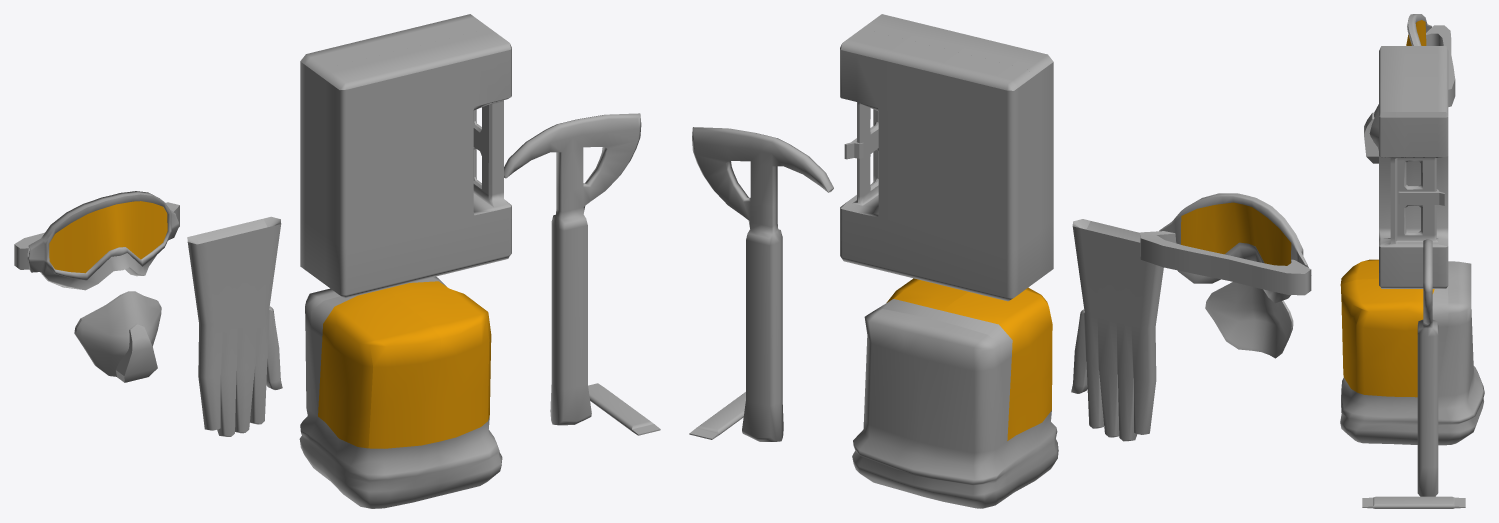
Rendered from AirplaneCheckParts.fbx.
3 views of the same model, side by side, from view 1: azimuth 30°, elevation 25°; view 2: azimuth 150°, elevation 25°; view 3: azimuth 270°, elevation 25° (orthographic). The views are drawn at different scales.
Parts seen in each view (by area): view 1: PBE_Box (×2), PBE_Transparent, FireGloves, Fireaxe, PBE_OP, Goggles_TransParent, Goggles_OP, OxygenMask, OxygenMask1, Packet; view 2: PBE_Box (×2), PBE_OP, FireGloves, Fireaxe, PBE_Transparent, Goggles, OxygenMask, Goggles_TransParent, Goggles_OP, Packet; view 3: PBE_Box (×2), PBE_OP, PBE_Transparent, Fireaxe, Packet, Goggles, PBE_Latch, OxygenMask1, Goggles_OP, Goggles_TransParent, OxygenMask.
Part boxes in pixels (x1,y1,x2,y2): PBE_Box (×2): (300,14,511,298); PBE_Transparent: (318,281,491,448); FireGloves: (187,216,282,436); Fireaxe: (504,113,641,425); PBE_OP: (299,276,502,508); Goggles_TransParent: (49,201,167,273); Goggles_OP: (27,191,179,290); OxygenMask: (74,291,161,376); OxygenMask1: (116,323,157,382); Packet: (588,383,660,435); PBE_Box (×2): (840,14,1053,301); PBE_OP: (852,299,1058,508); FireGloves: (1071,219,1163,441); Fireaxe: (692,127,833,441); PBE_Transparent: (886,278,1052,440); Goggles: (1140,231,1311,295); OxygenMask: (1205,282,1293,358); Goggles_TransParent: (1181,202,1291,265); Goggles_OP: (1159,193,1308,303); Packet: (689,392,745,439); PBE_Box (×2): (1379,46,1448,288); PBE_OP: (1340,261,1484,445); PBE_Transparent: (1340,259,1434,397); Fireaxe: (1417,239,1438,496); Packet: (1362,496,1465,508); Goggles: (1426,25,1455,106); PBE_Latch: (1398,189,1444,205); OxygenMask1: (1364,112,1378,163); Goggles_OP: (1407,14,1432,45); Goggles_TransParent: (1406,20,1426,45); OxygenMask: (1369,104,1378,150).
Size of the model in its own units: 47.28 by 31.04 by 11.65.
